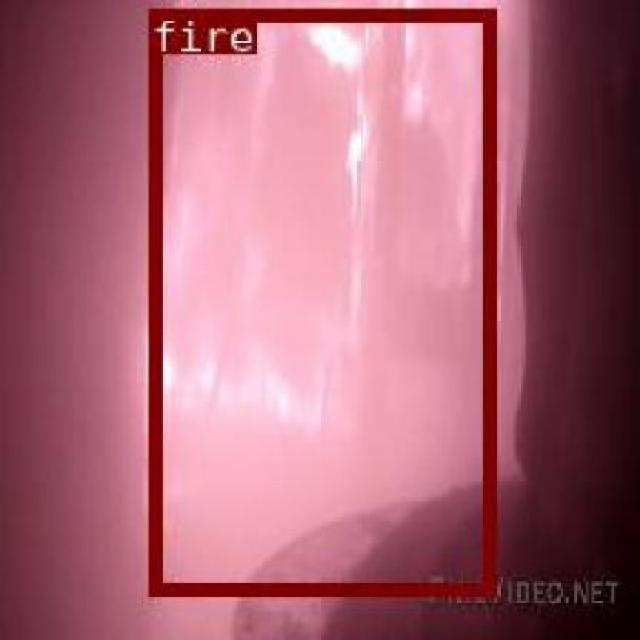Fire: (146, 8, 492, 592)
